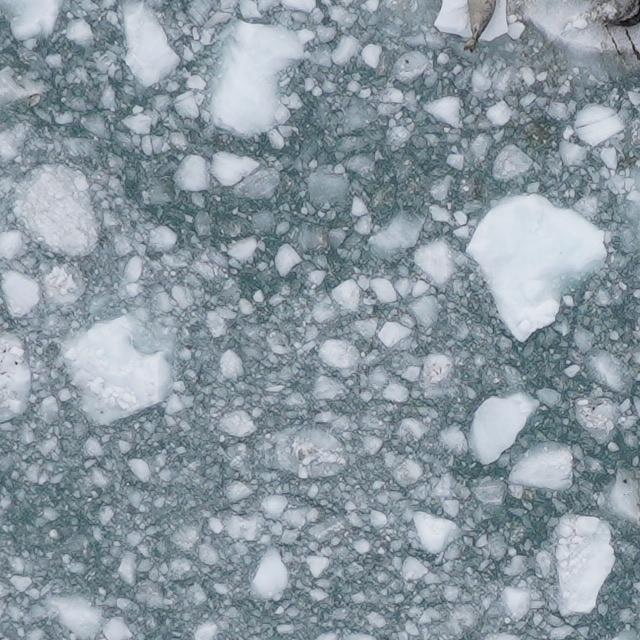seal: (459, 0, 502, 56)
